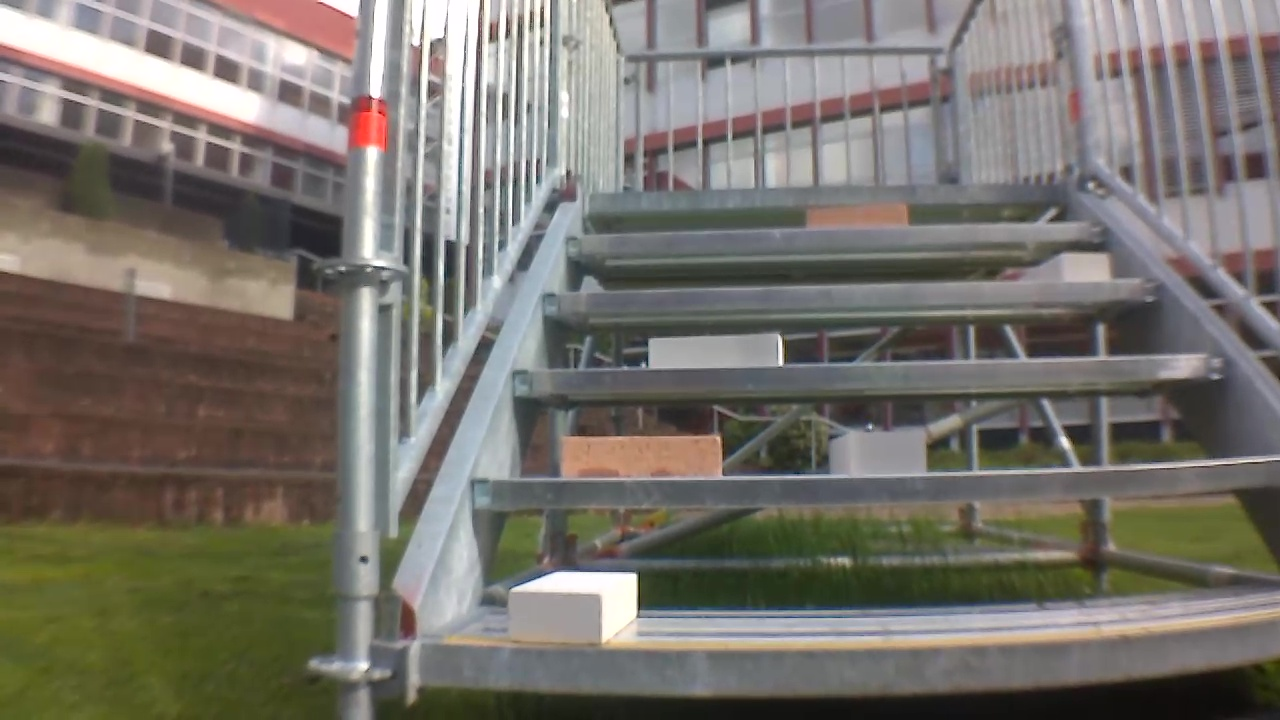brick: (498, 570, 644, 644), (560, 431, 724, 483), (825, 427, 930, 479), (643, 333, 788, 368), (798, 202, 915, 230), (1019, 251, 1112, 283)
edge: (406, 611, 1280, 699), (473, 462, 1280, 508), (505, 353, 1228, 398), (538, 278, 1169, 320), (560, 220, 1105, 260), (589, 182, 1068, 215)
stairs: (363, 0, 1280, 705)
steps: (400, 180, 1280, 715)
